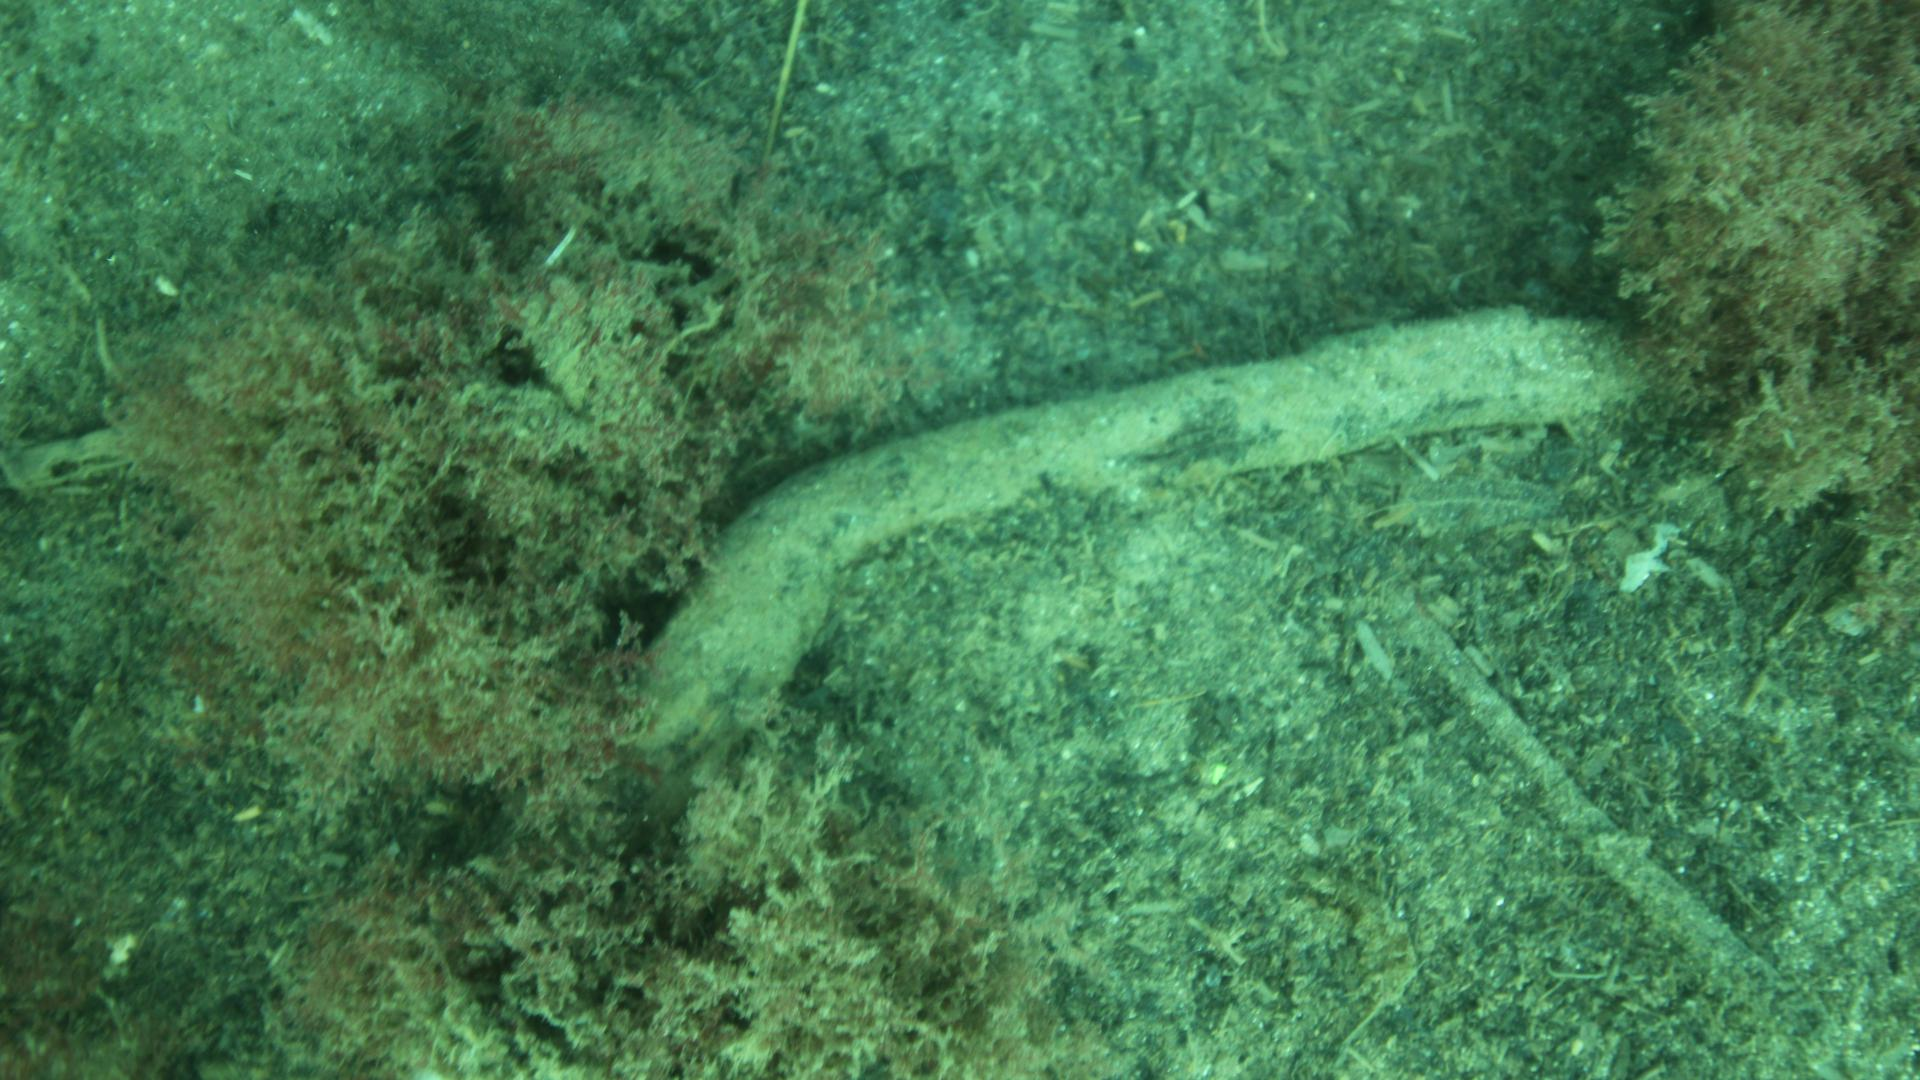wood: (646, 309, 1640, 752)
